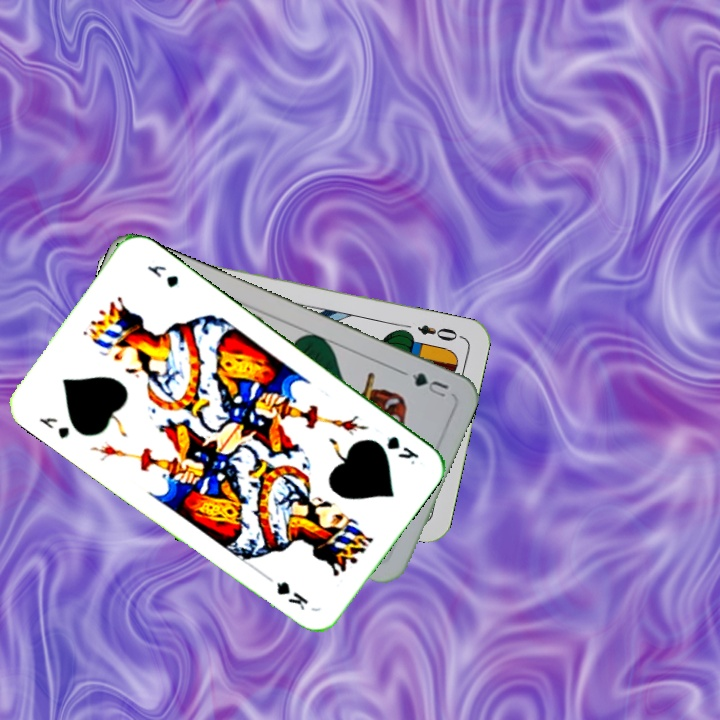EO: (413, 320, 465, 344)
GK: (382, 431, 422, 467), (34, 413, 72, 442)
GU: (408, 368, 451, 400)
